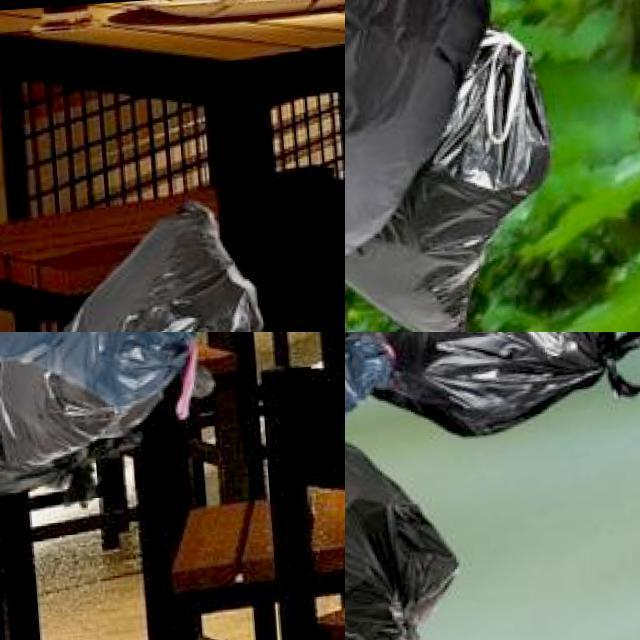waste: (345, 0, 555, 332), (345, 23, 570, 332), (59, 194, 290, 332), (349, 332, 640, 437), (345, 413, 466, 640), (0, 332, 205, 424)
